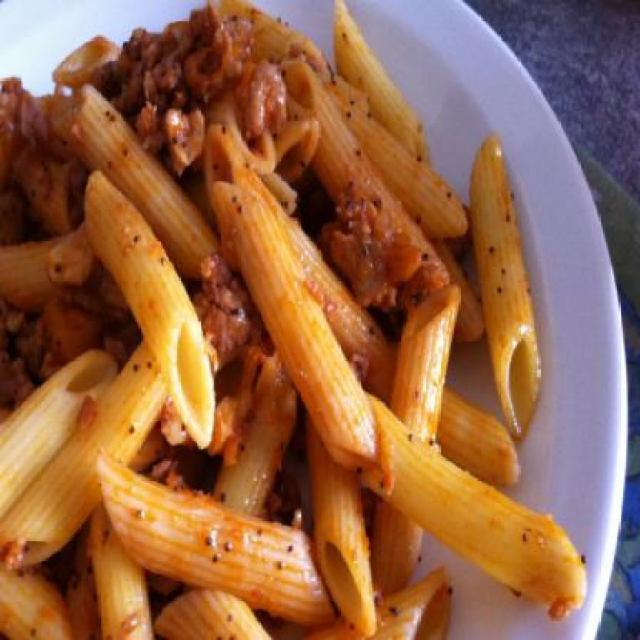Pasta al ragu: (10, 11, 595, 622)
